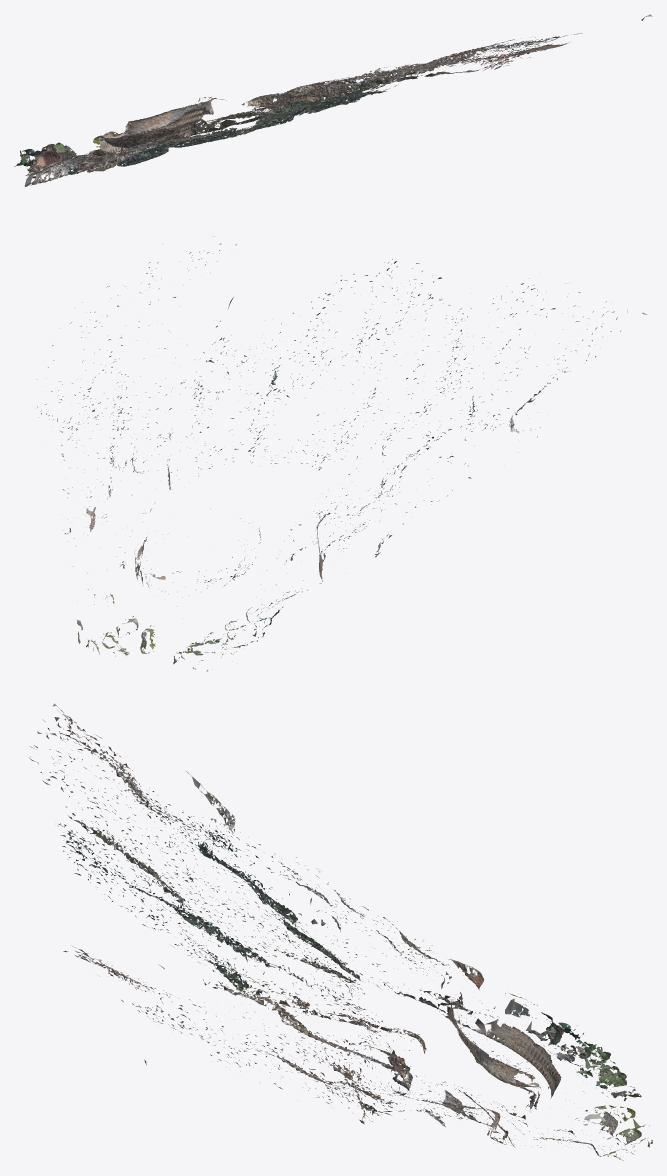
File: colosseum_bpa.glb
3 renders of one model, top to bottom at view 1: azimuth 30°, elevation 25°; view 2: azimuth 150°, elevation 25°; view 3: azimuth 270°, elevation 25°, orthographic. The views are drawn at different scales.
Parts seen in each view (by area): view 1: world; view 2: world; view 3: world.
Part boxes in pixels (x1=…): world: x1=14, y1=14, x2=652, y2=186; world: x1=36, y1=236, x2=647, y2=671; world: x1=28, y1=703, x2=652, y2=1160.
Bounding box in the file's own units: 2.49 × 1.01 × 2.01.
